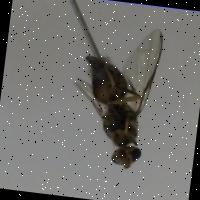Oriental-fruit-fly: (65, 15, 171, 177)
